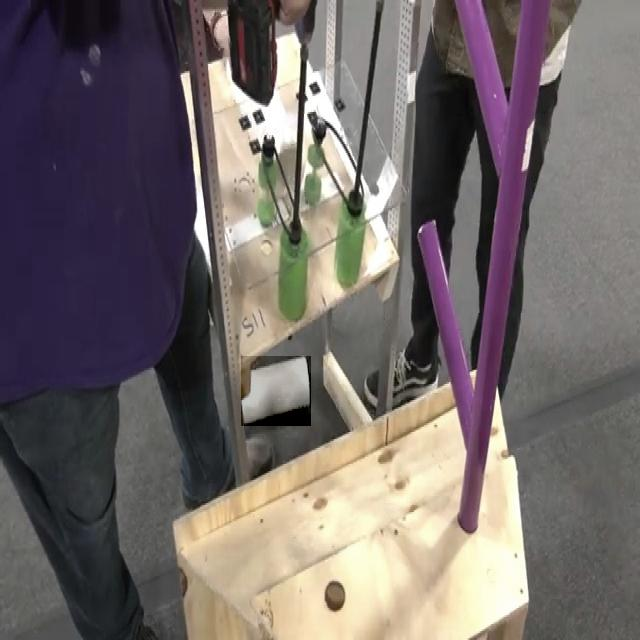Coral: (241, 356, 311, 426)
